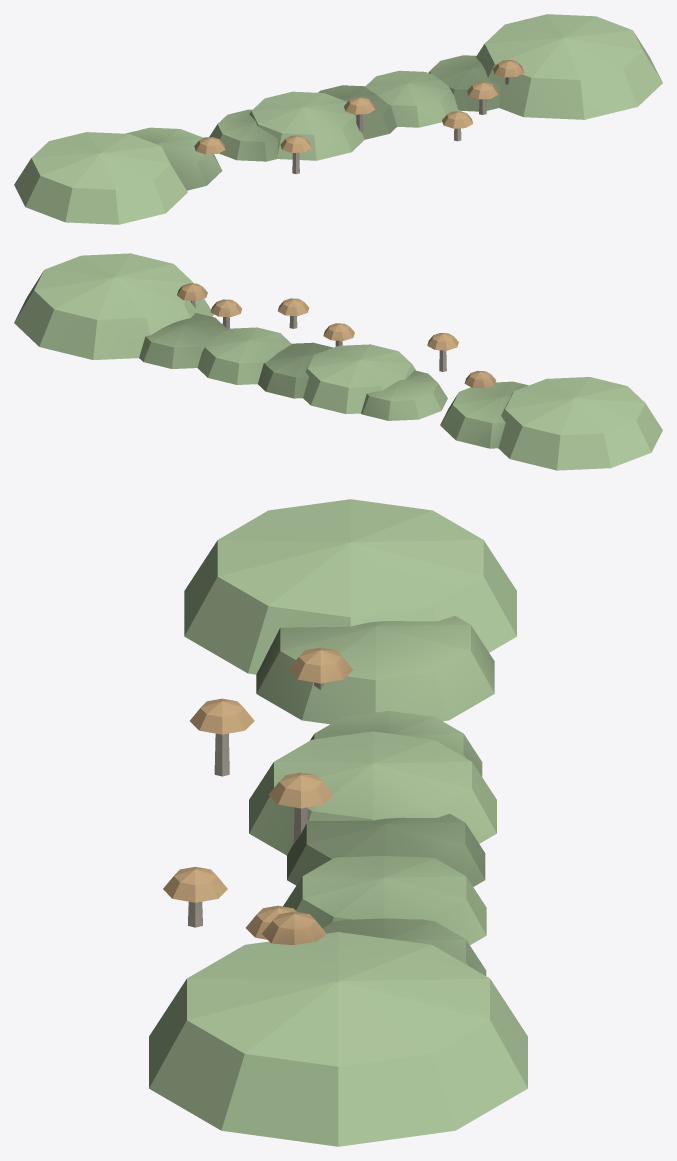
Rendered from dngp_moss.glb.
The picture shows the model from 3 angles, top to bottom: view 1: azimuth 30°, elevation 25°; view 2: azimuth 150°, elevation 25°; view 3: azimuth 270°, elevation 25°; orthographic projection. The views are drawn at different scales.
Visible parts, largest first — view 1: moss; view 2: moss; view 3: moss.
Part boxes in pixels (left/top/right/bottom): moss: left=14, top=14, right=662, bottom=224; moss: left=14, top=253, right=662, bottom=470; moss: left=149, top=499, right=527, bottom=1146.
Size of the model in its own units: 1.98 by 0.1276 by 0.5232.
